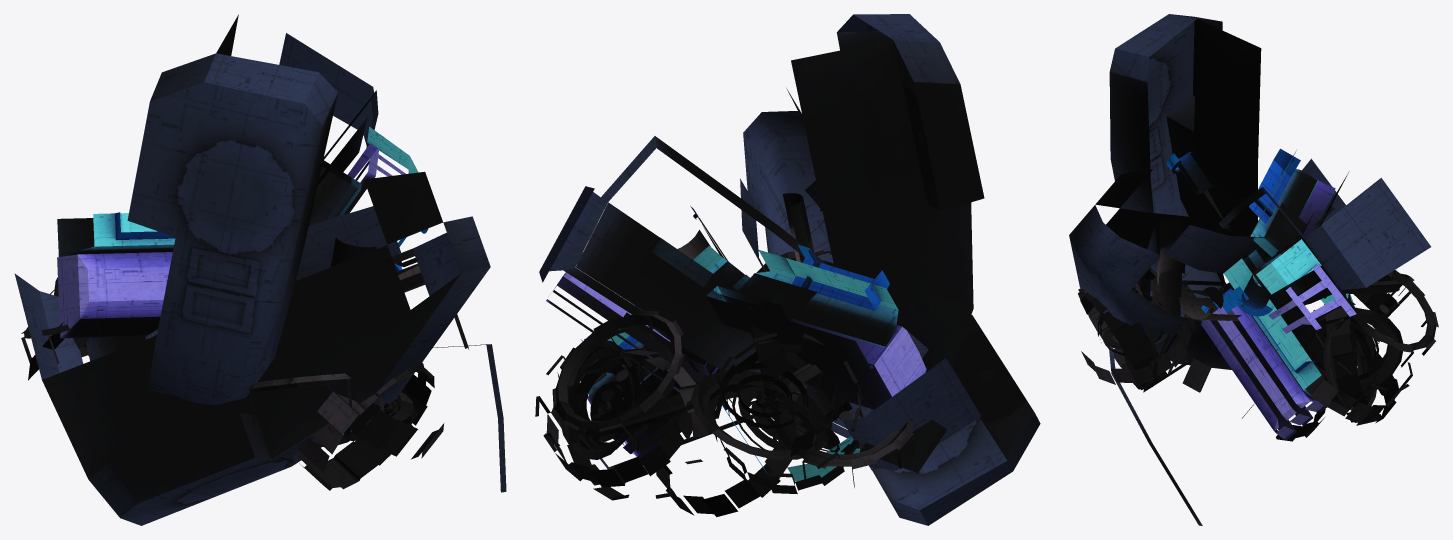
File: PlayerA_Die7.obj
The picture shows the model from 3 angles, left to right: view 1: azimuth 30°, elevation 25°; view 2: azimuth 150°, elevation 25°; view 3: azimuth 270°, elevation 25°; orthographic projection. The views are drawn at different scales.
Visible parts, largest first — view 1: Object001; view 2: Object001; view 3: Object001.
Part boxes in pixels (bbox=[...]): Object001: bbox=[14, 14, 506, 525]; Object001: bbox=[535, 14, 1040, 525]; Object001: bbox=[1069, 14, 1438, 525].
Bounding box in the file's own units: 131 × 145 × 122.
1 material, 1 textured.
